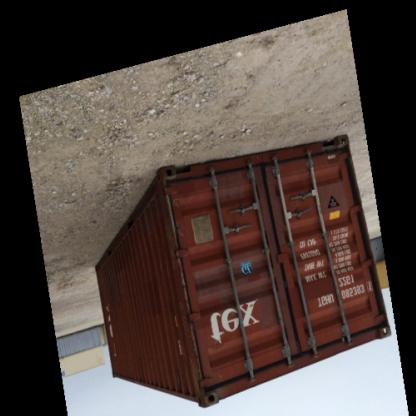Damage: (218, 166, 247, 202), (170, 220, 186, 244), (168, 198, 182, 212)
